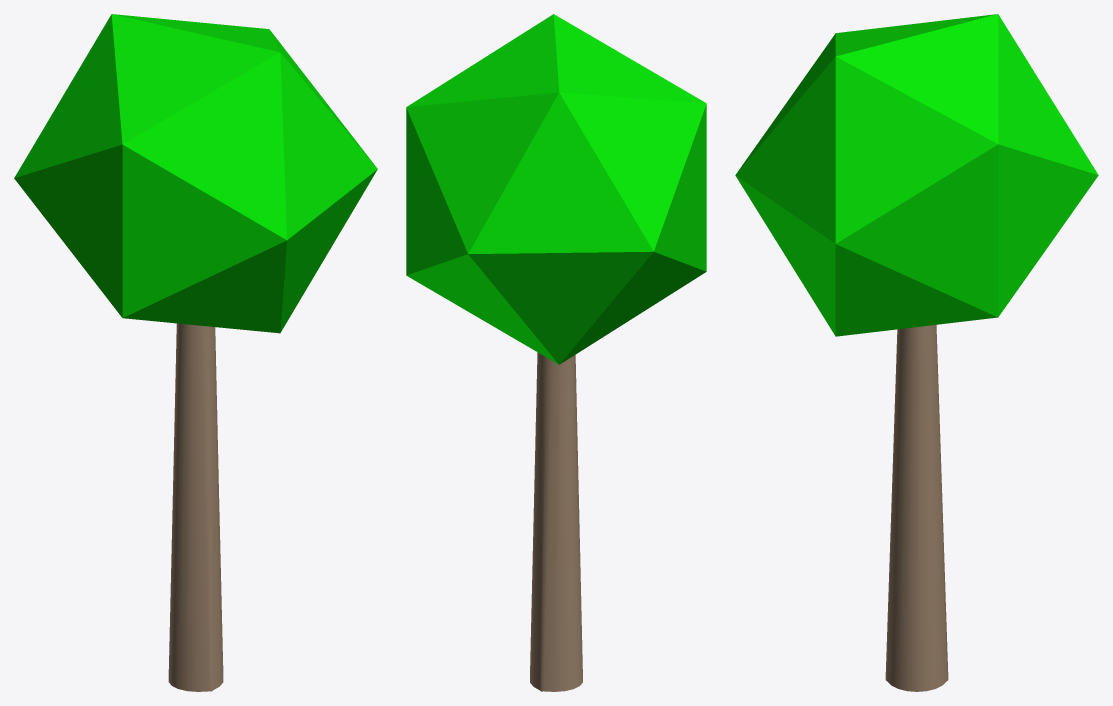
Rendered from Tree.fbx.
3 renders of one model, left to right at view 1: azimuth 30°, elevation 25°; view 2: azimuth 150°, elevation 25°; view 3: azimuth 270°, elevation 25°, orthographic. The views are drawn at different scales.
Visible parts, largest first — view 1: pPlatonic1, pCylinder1; view 2: pPlatonic1, pCylinder1; view 3: pPlatonic1, pCylinder1.
Part boxes in pixels (x1,y1,x2,y2): pPlatonic1: (14, 14, 377, 333); pCylinder1: (168, 323, 223, 691); pPlatonic1: (406, 14, 706, 364); pCylinder1: (530, 352, 582, 691); pPlatonic1: (735, 14, 1098, 336); pCylinder1: (885, 325, 948, 691).
Bounding box in the file's own units: 51.28 × 112 × 57.34.
